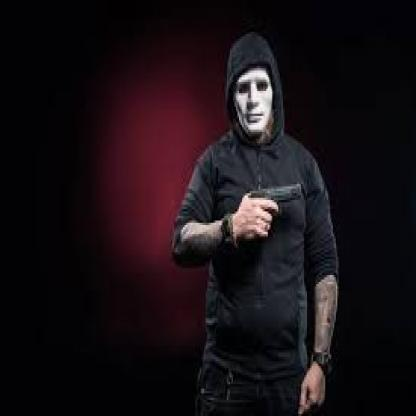criminal: (169, 33, 340, 416)
weapon: (243, 182, 302, 242)
